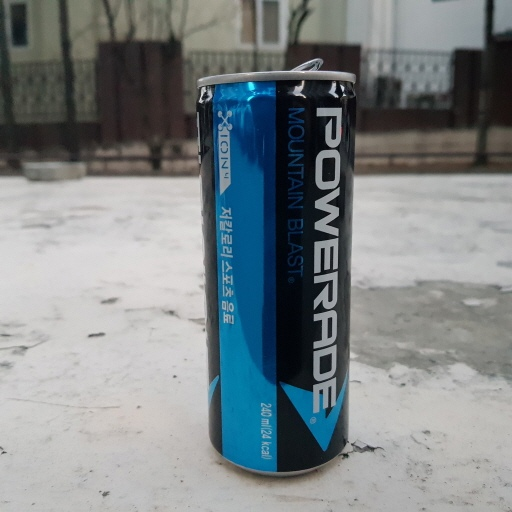Metal_0: (190, 57, 358, 478)
